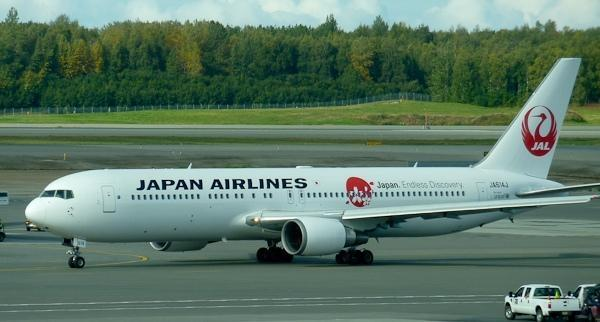car: (580, 282, 600, 322)
truck: (504, 284, 582, 321), (564, 284, 600, 322)
